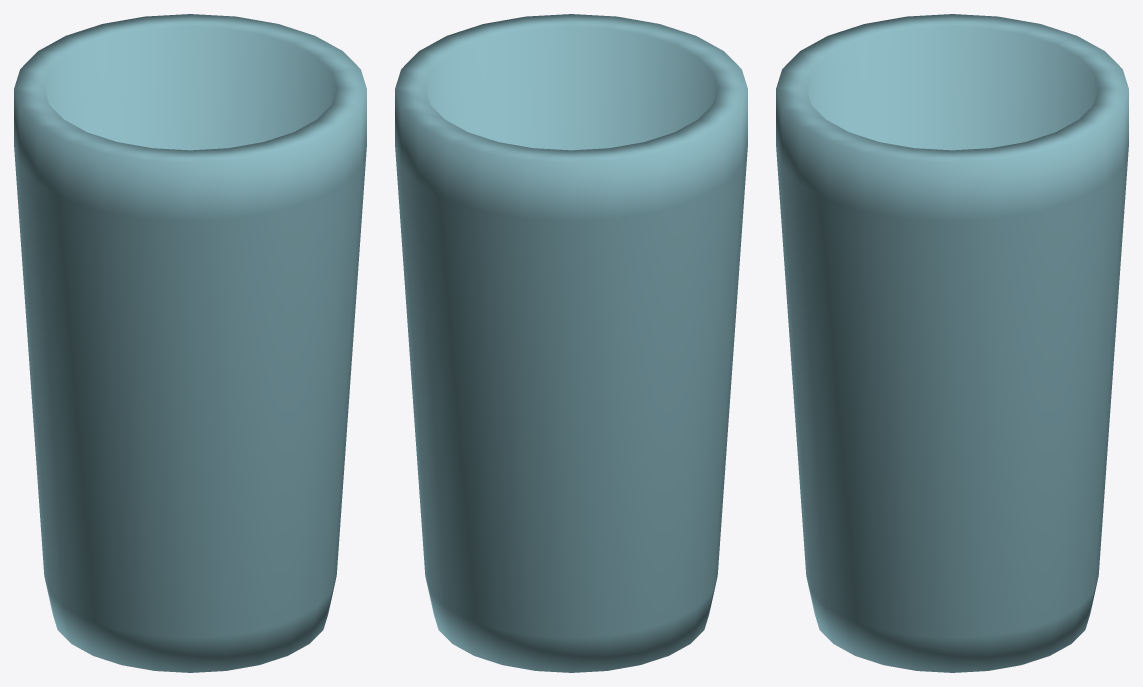
The model's file is HotelTogether-WaterCup.glb.
3 views of the same model, side by side, from view 1: azimuth 30°, elevation 25°; view 2: azimuth 150°, elevation 25°; view 3: azimuth 270°, elevation 25° (orthographic).
Parts seen in each view (by area): view 1: Cup_Wall; view 2: Cup_Wall; view 3: Cup_Wall.
Part boxes in pixels (x1,y1,x2,y2): Cup_Wall: [14, 14, 366, 672]; Cup_Wall: [395, 14, 747, 672]; Cup_Wall: [776, 14, 1128, 672].
Bounding box in the file's own units: 0.082 × 0.135 × 0.082.
